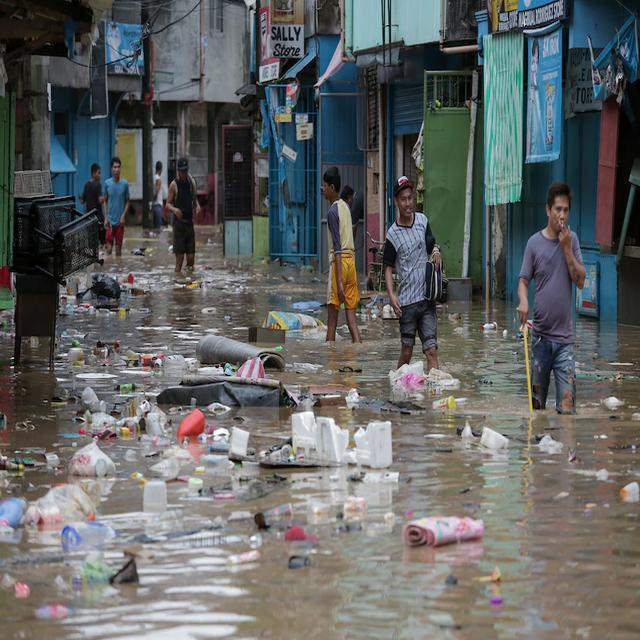Person-RiskLevel2: (507, 176, 593, 417), (377, 174, 451, 375), (315, 165, 368, 347), (81, 157, 133, 258), (159, 158, 203, 271)
